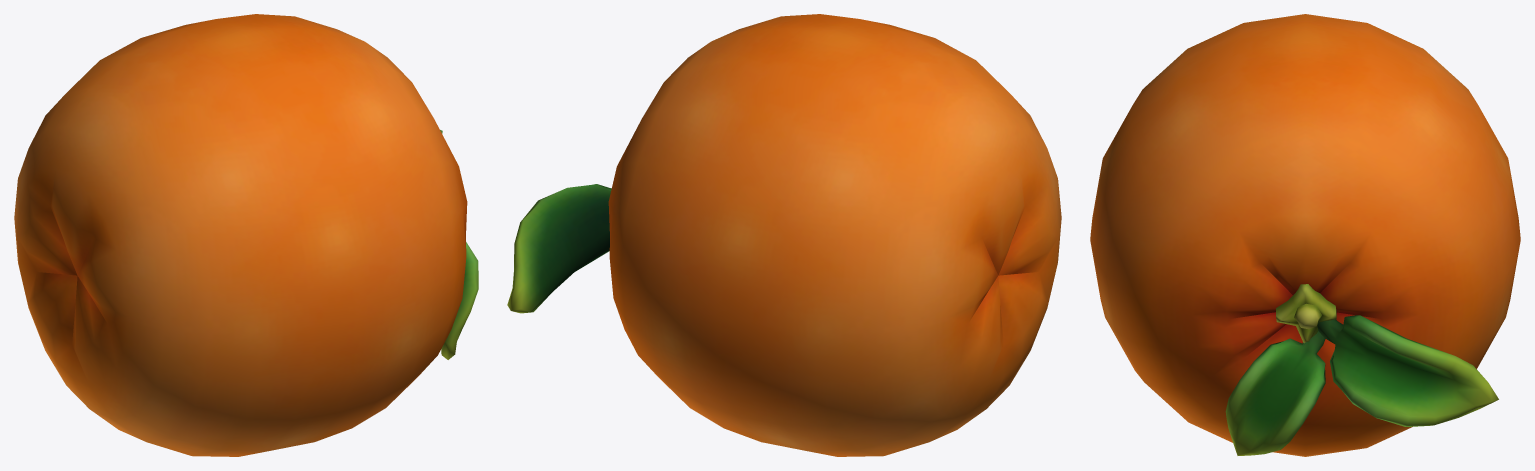
Rendered from m_ingredients_orange_whole_01.fbx.
3 renders of one model, left to right at view 1: azimuth 30°, elevation 25°; view 2: azimuth 150°, elevation 25°; view 3: azimuth 270°, elevation 25°, orthographic. The views are drawn at different scales.
Visible parts, largest first — view 1: m_ingredients_orange_whole_01; view 2: m_ingredients_orange_whole_01; view 3: m_ingredients_orange_whole_01.
Part boxes in pixels (<box>): m_ingredients_orange_whole_01: <box>14,14,478,456</box>; m_ingredients_orange_whole_01: <box>507,14,1061,456</box>; m_ingredients_orange_whole_01: <box>1090,14,1520,456</box>.
Bounding box in the file's own units: 88.85 × 78.66 × 78.57.
Materials: 1 (1 with a texture image).
